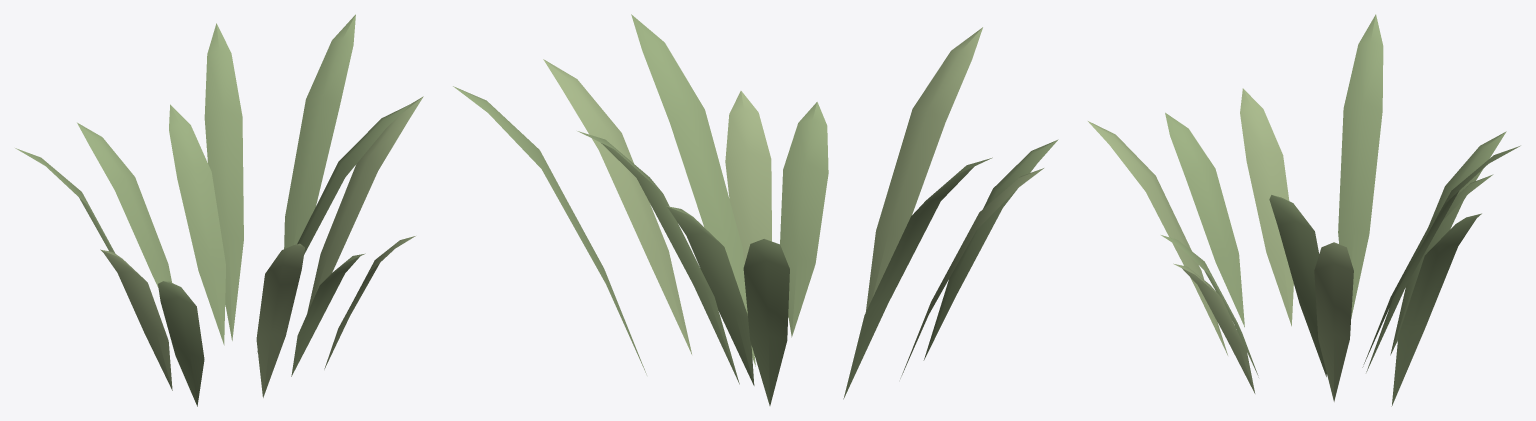
File: SM_Grass_2.fbx
3 renders of one model, left to right at view 1: azimuth 30°, elevation 25°; view 2: azimuth 150°, elevation 25°; view 3: azimuth 270°, elevation 25°, orthographic. The views are drawn at different scales.
Parts seen in each view (by area): view 1: SM_Grass_2; view 2: SM_Grass_2; view 3: SM_Grass_2.
Part boxes in pixels (<box>): SM_Grass_2: <box>15,14,423,406</box>; SM_Grass_2: <box>453,14,1058,405</box>; SM_Grass_2: <box>1088,14,1520,406</box>.
Bounding box in the file's own units: 107 × 98.65 × 65.08.
